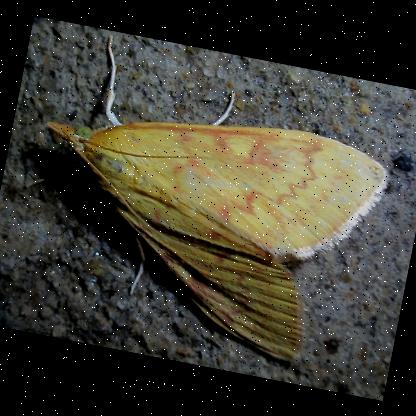Asian Corn Borer Moth: (0, 22, 407, 378)
